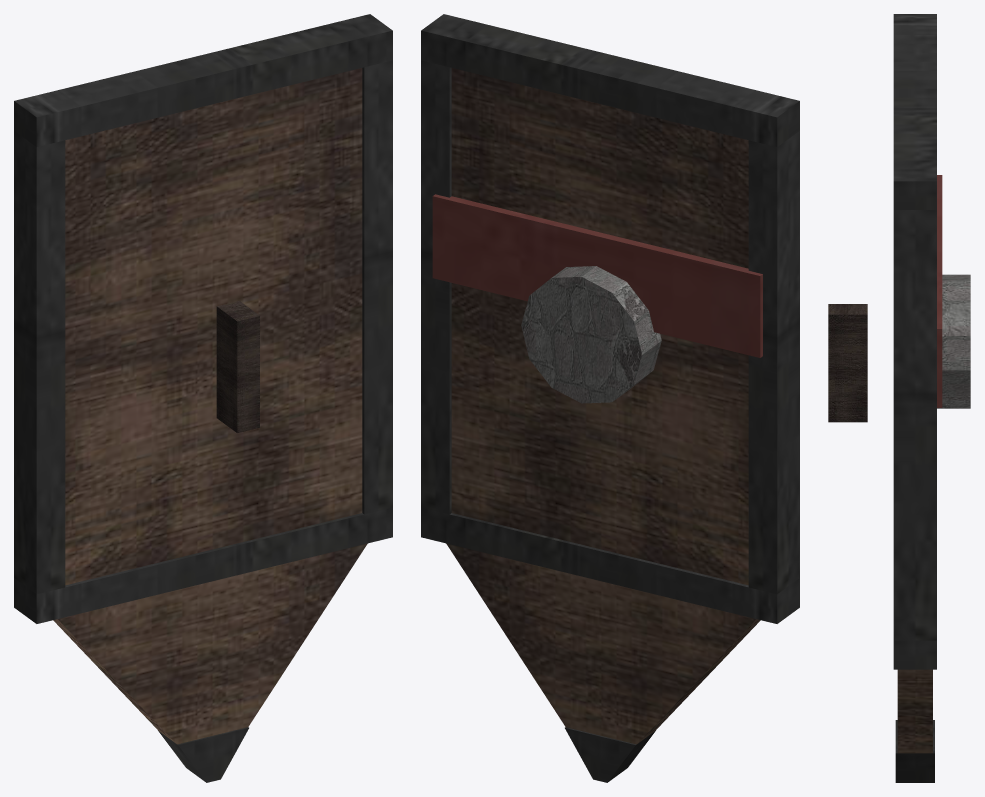
The model's file is wpn_shield_starter.glb.
3 renders of one model, left to right at view 1: azimuth 30°, elevation 25°; view 2: azimuth 150°, elevation 25°; view 3: azimuth 270°, elevation 25°, orthographic. The views are drawn at different scales.
Parts seen in each view (by area): view 1: wpn_shield_starter; view 2: wpn_shield_starter; view 3: wpn_shield_starter.
Part boxes in pixels (box(x1,y1,x2,y2)): wpn_shield_starter: box(14, 14, 392, 782); wpn_shield_starter: box(421, 14, 799, 782); wpn_shield_starter: box(828, 14, 970, 782).
Size of the model in its own units: 0.5 by 0.95 by 0.18.
5 materials, 5 textured.
